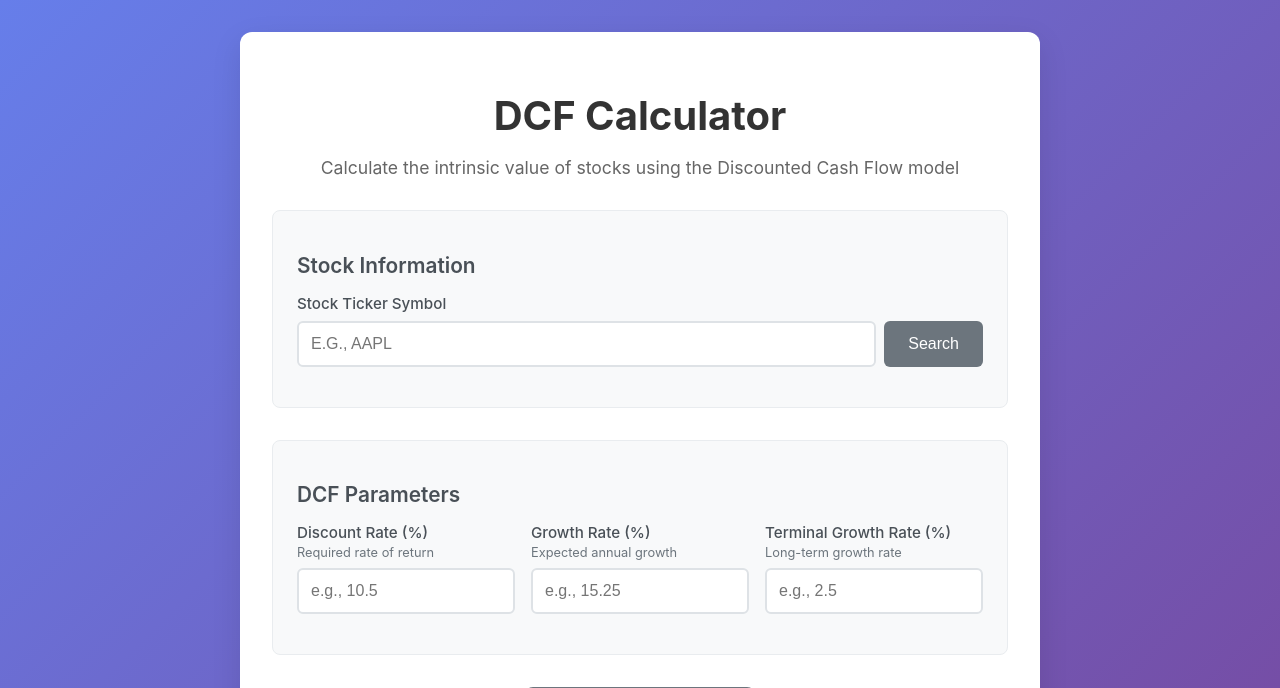
Test: DCFCalculator › Stock Ticker Search › enables search button when ticker is entered
In the field labelled "Stock Ticker Symbol": [587, 344] box [297, 321, 876, 367], type "AAPL"
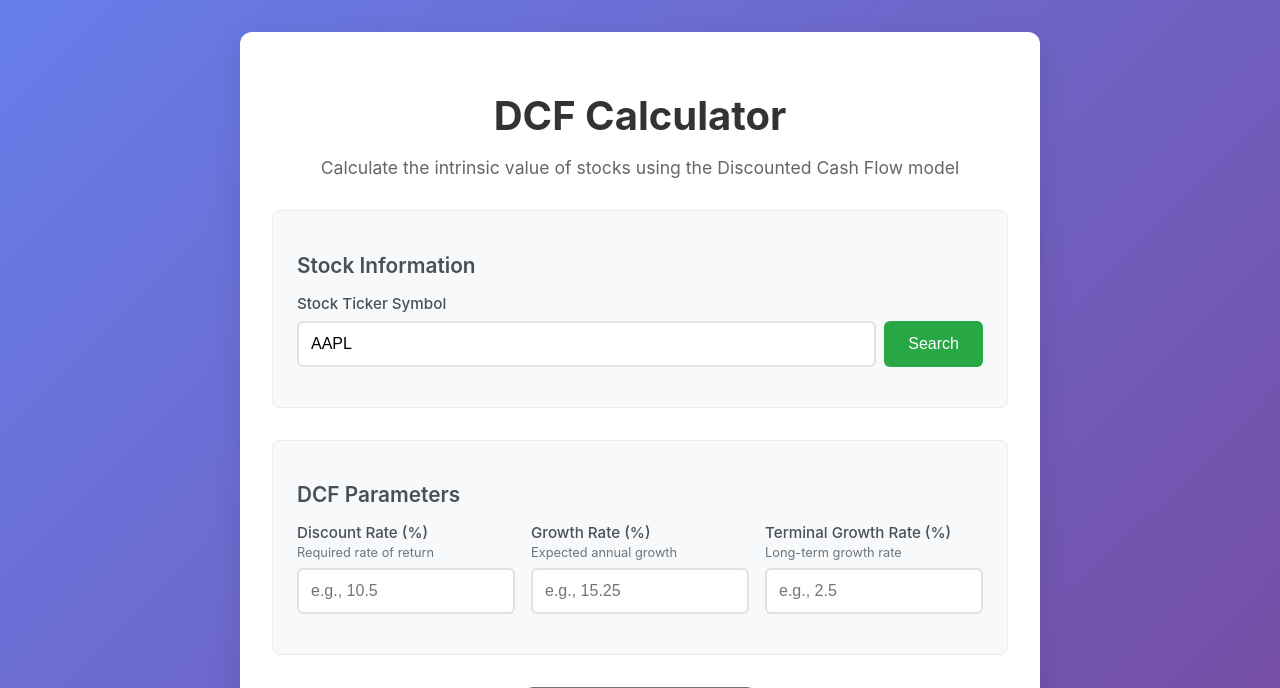
Result: the button "Search" is enabled at [884, 321, 983, 367]
